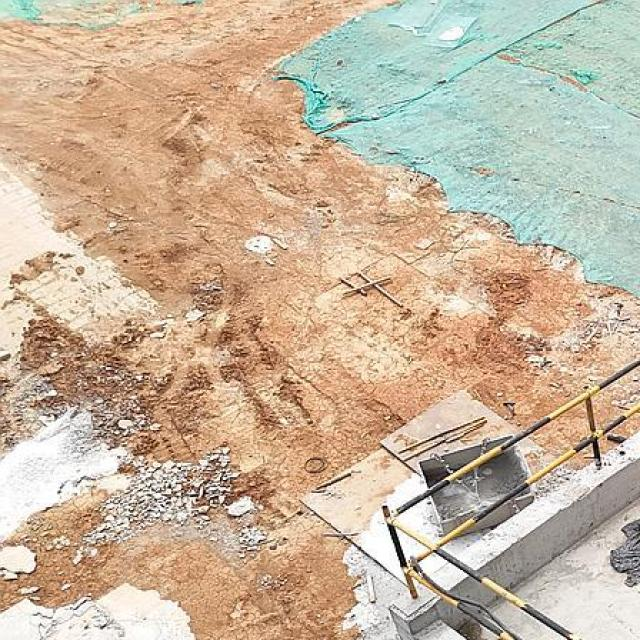edge_guardrail: (381, 355, 639, 640)
